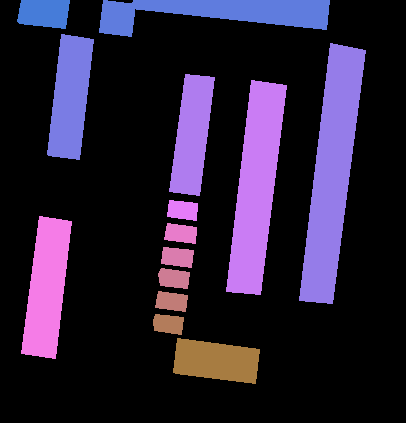parkingspot: (299, 43, 365, 303), (226, 80, 286, 294), (21, 216, 71, 358), (47, 34, 93, 159), (131, 0, 329, 29), (169, 74, 214, 195), (173, 338, 259, 383), (17, 0, 69, 28), (99, 0, 135, 36), (164, 223, 196, 243), (161, 247, 193, 267), (155, 291, 187, 311), (158, 268, 189, 288), (167, 200, 197, 220), (153, 314, 183, 334)
